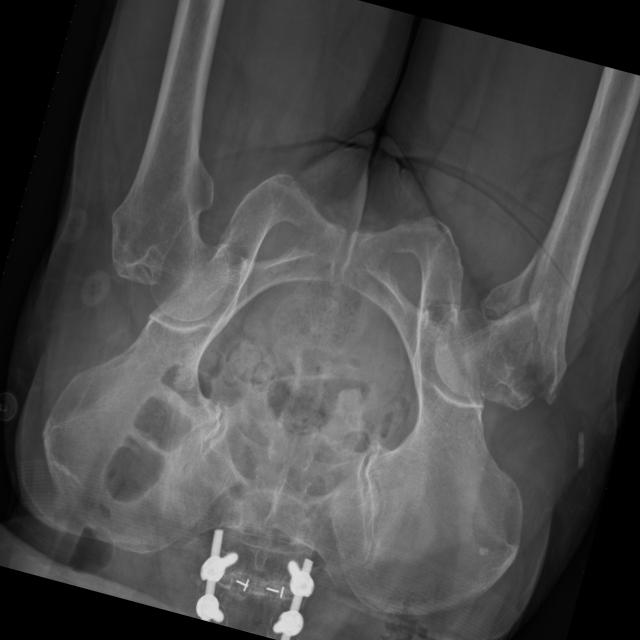normal-left: (109, 66, 227, 320)
right-intertrochanteric: (527, 196, 601, 404), (433, 292, 541, 409)
right-lesser-trochanter: (478, 245, 540, 314)
